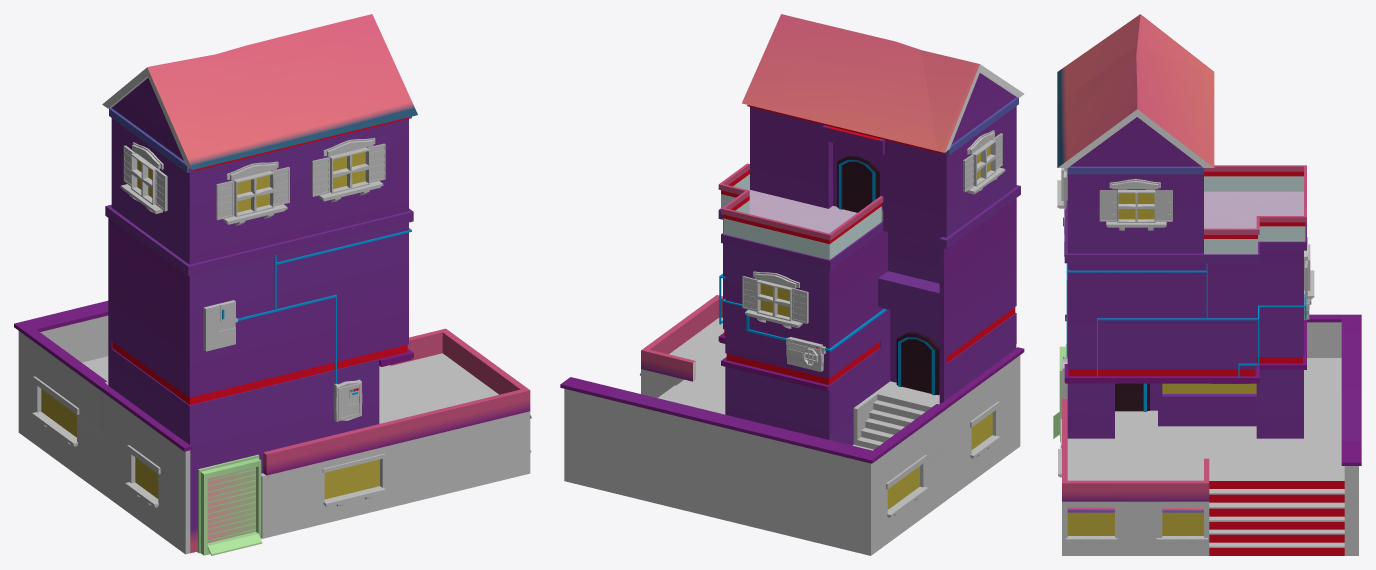
Rendered from Building_Apartment04.fbx.
3 views of the same model, side by side, from view 1: azimuth 30°, elevation 25°; view 2: azimuth 150°, elevation 25°; view 3: azimuth 270°, elevation 25° (orthographic). The views are drawn at different scales.
Visible parts, largest first — view 1: Cube.026; view 2: Cube.026; view 3: Cube.026.
Part boxes in pixels (left/top/right/bottom): Cube.026: left=14, top=14, right=531, bottom=555; Cube.026: left=560, top=14, right=1024, bottom=555; Cube.026: left=1053, top=14, right=1361, bottom=555.
Size of the model in its own units: 889 by 1100 by 770.
